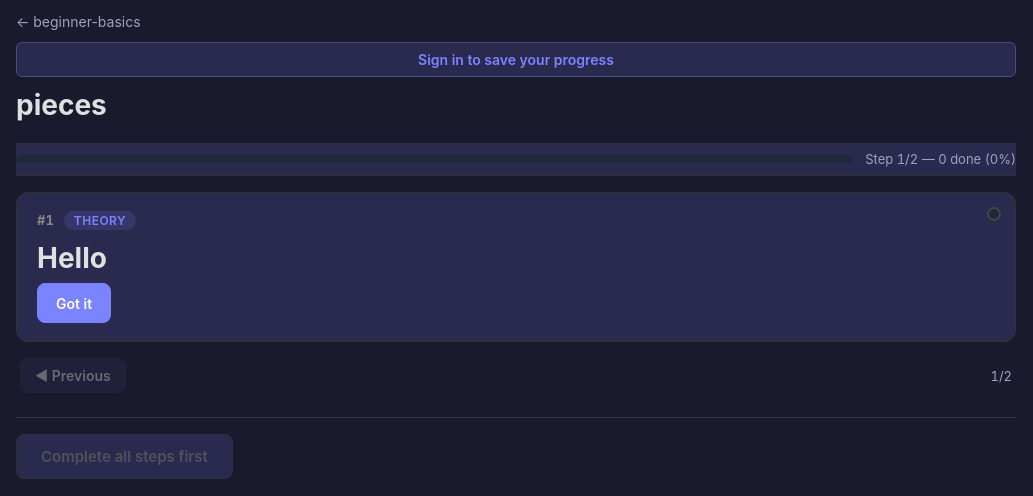
Scenario: LessonPage › KS-2056: клик «Готово» внутри шага → переключает на следующий шаг и обновляет ?step
Expected: the list item with test id "lesson-step-1" is shown, x1=16 y1=192 x2=1016 y2=342
Click the button with test id "lesson-text-step-next" at (74, 303), box x1=37 y1=283 x2=111 y2=323
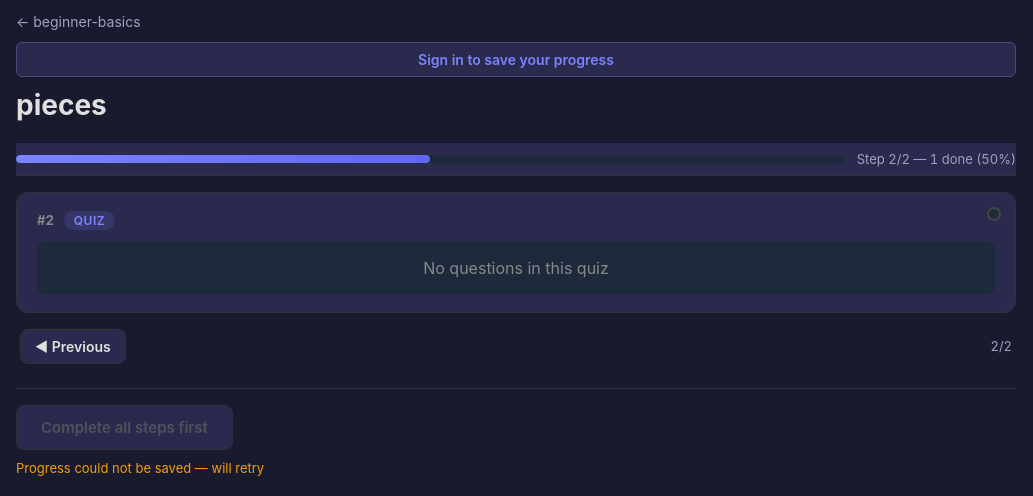
Expected: the list item with test id "lesson-step-2" is shown, x1=16 y1=192 x2=1016 y2=313
Expected: the list item with test id "lesson-step-1" is gone
Expected: the text with test id "lesson-step-nav-counter" reads "2/2", x1=990 y1=338 x2=1012 y2=354
